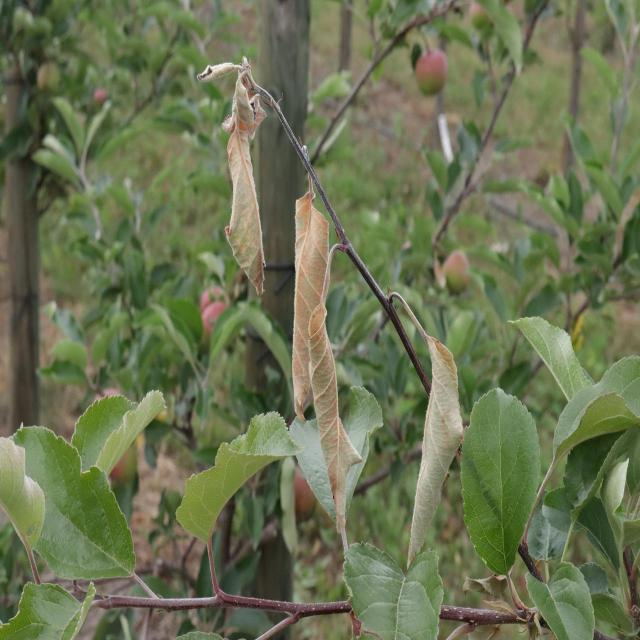-FireBlight-: (282, 165, 341, 521), (189, 47, 267, 303)
